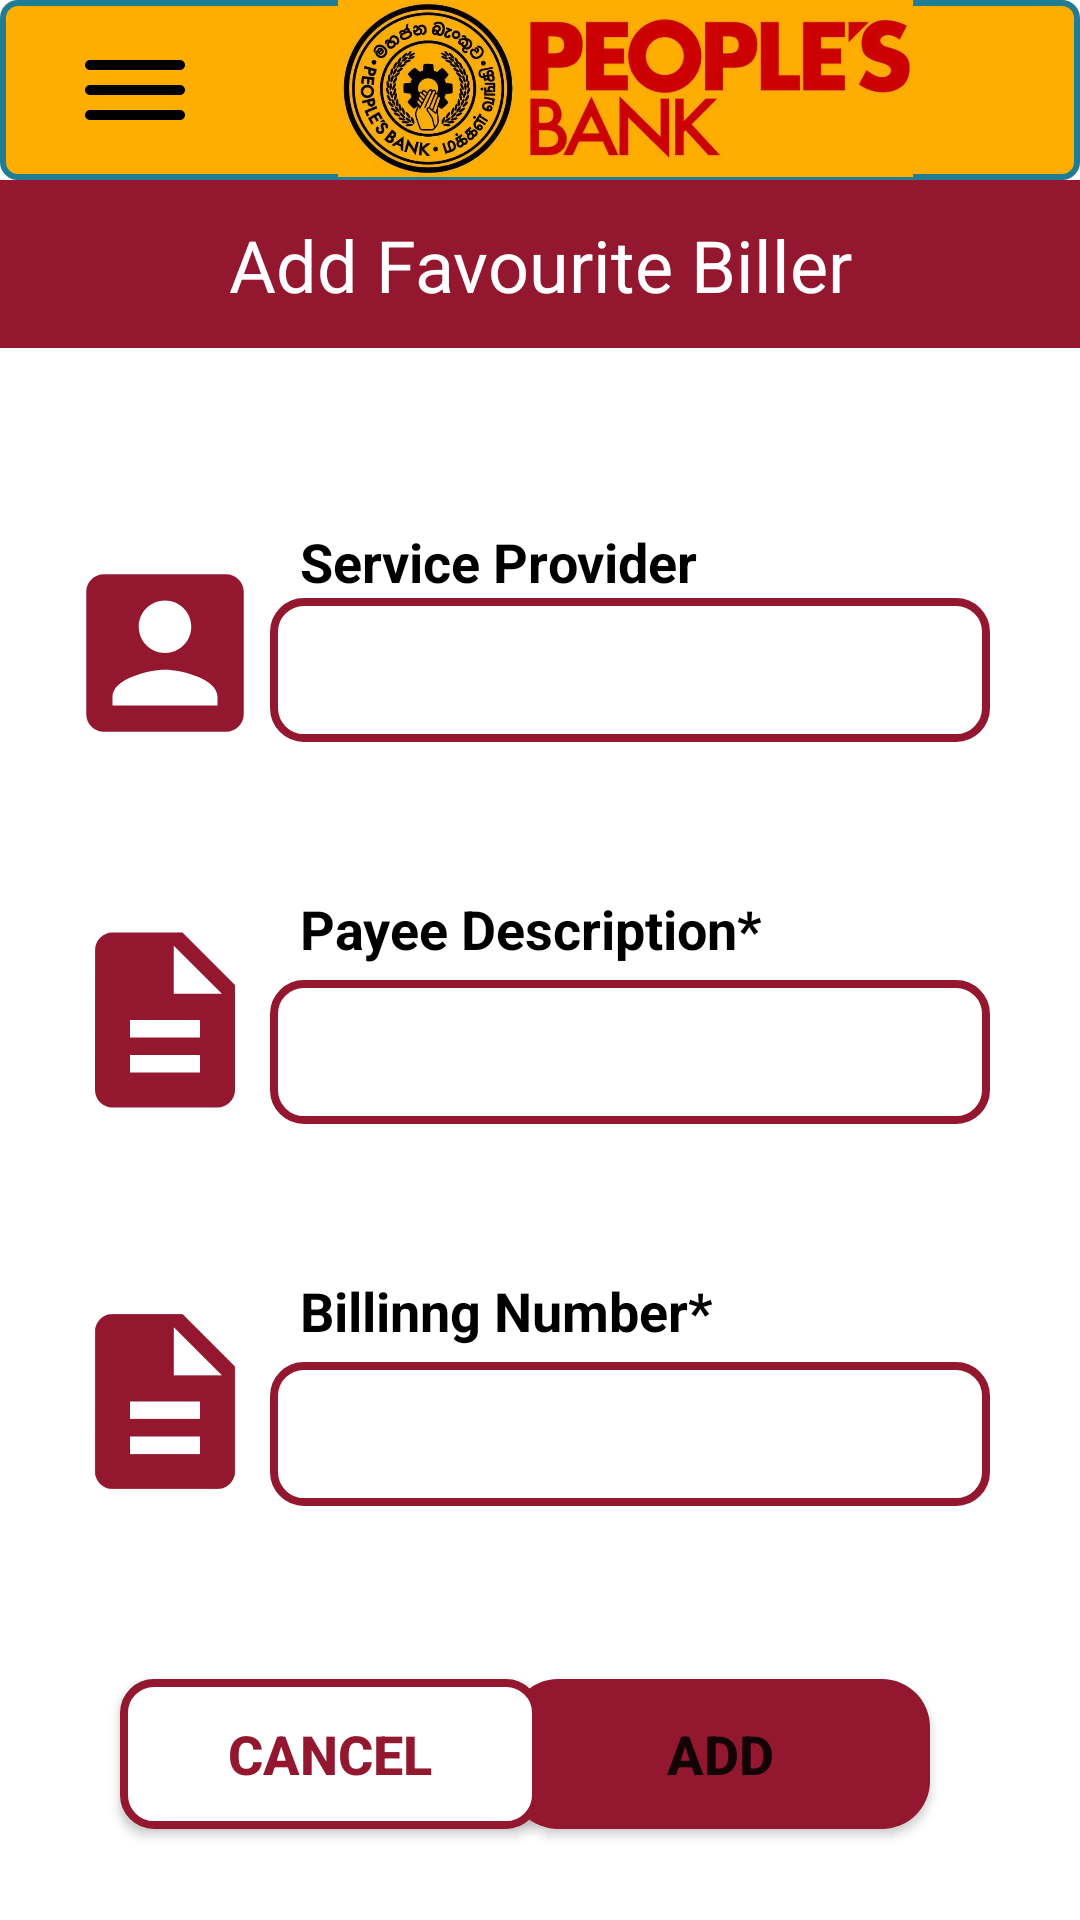

Icons on this 1080w x 1920h Android screen, each with its box as {"left": x1, "top": y1, "right": x2, "bottom": y2}:
dehaze: {"left": 85, "top": 60, "right": 185, "bottom": 120}
